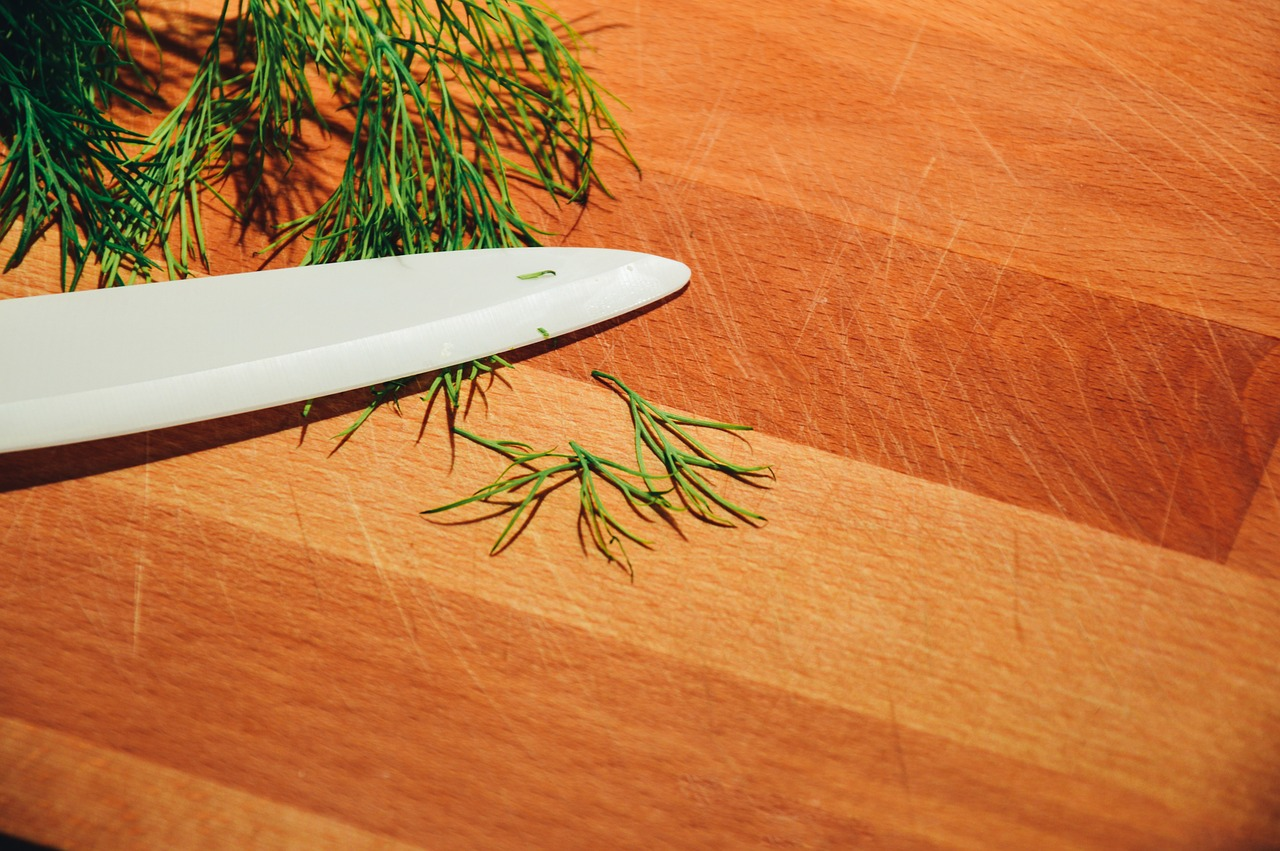knife: (0, 232, 707, 471)
